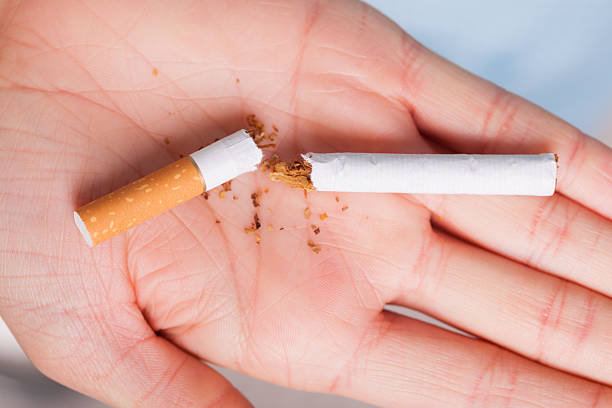cigarette: (72, 129, 263, 246), (286, 153, 562, 199)
